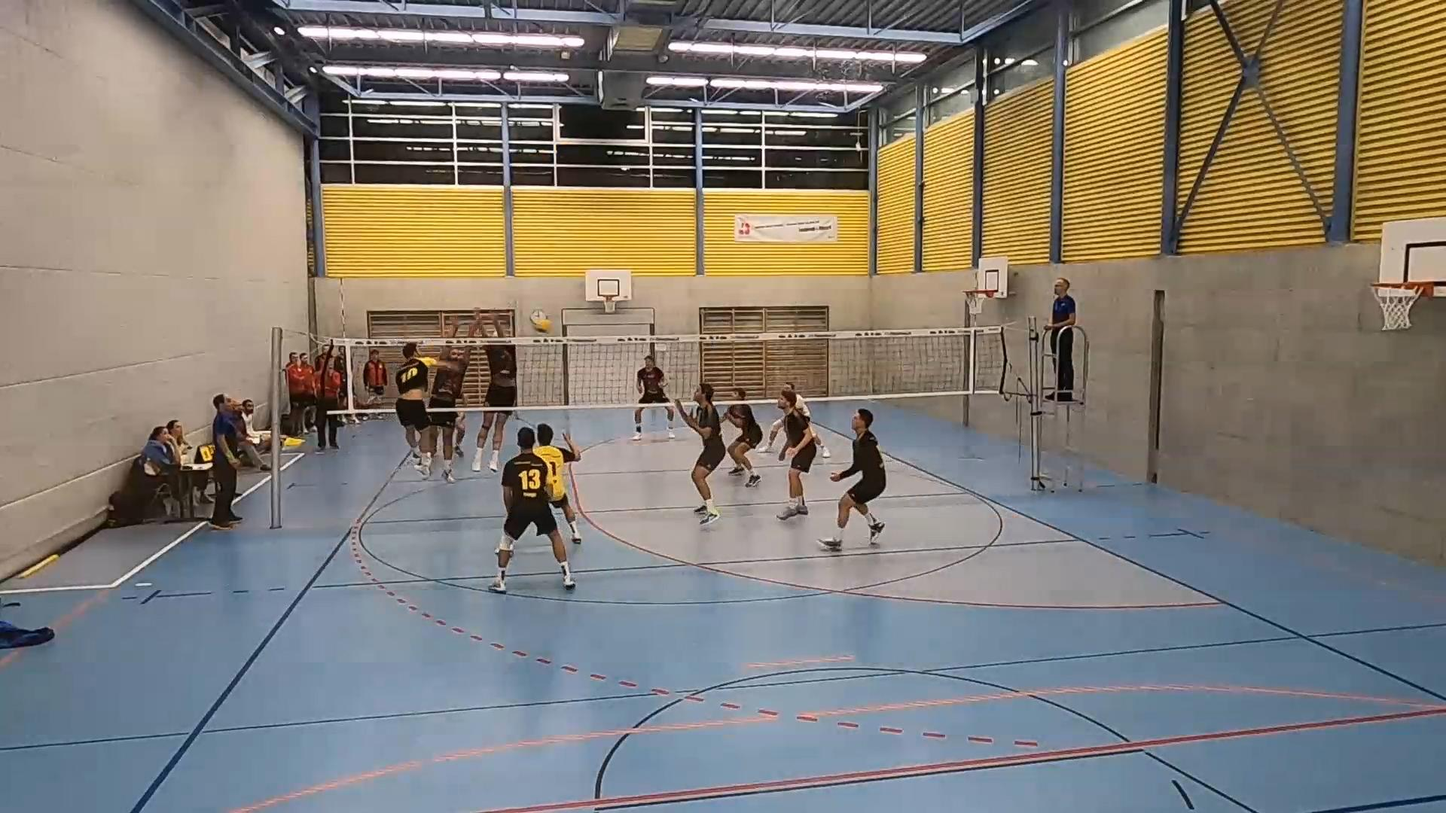attacco: (380, 346, 468, 483)
muro: (472, 306, 526, 481), (413, 306, 461, 487)
